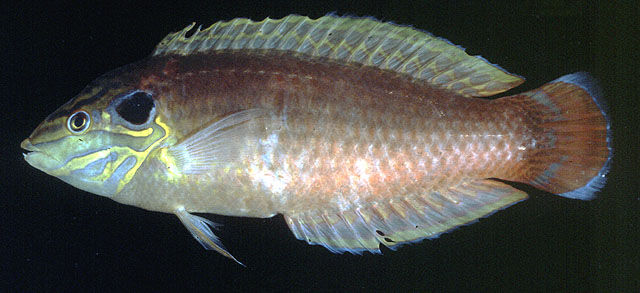fish: (20, 9, 613, 269)
